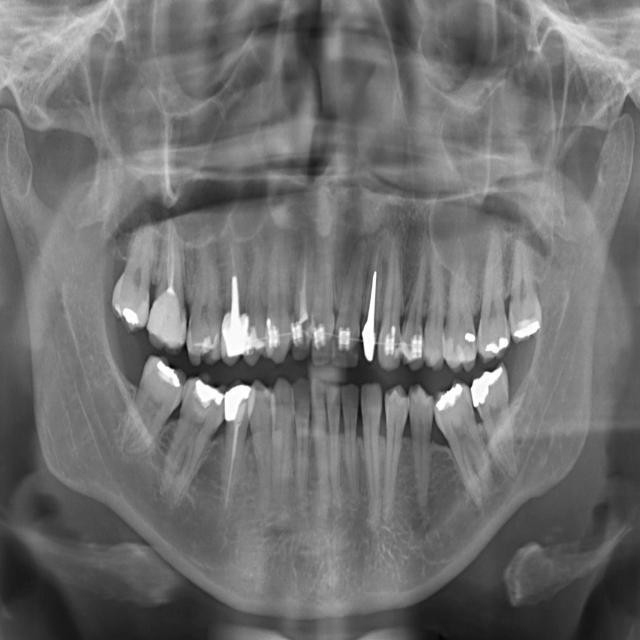3M ESPE Implant: (107, 225, 169, 329)
AGS Medikal Implant: (431, 382, 512, 502)
Amalgam filling: (146, 227, 195, 345)
Anthogyr Implant: (413, 382, 433, 521)
Bicon Implant: (369, 394, 410, 529)
BioHorizons Implant: (360, 382, 385, 521)
BioLife Implant: (342, 380, 360, 518)
Biomet 3i Implant: (325, 389, 341, 511)
Blue Sky Bio Implant: (310, 376, 331, 515)
Camlog Implant: (292, 382, 315, 501)
Caries: (362, 230, 385, 348)
Composite filling: (273, 382, 295, 489)
Cowellmedi Implant: (246, 391, 274, 493)
Crown: (204, 379, 254, 510)
DENTSPLY Implant: (188, 244, 220, 348)
Dentis Implant: (185, 453, 185, 454)
Dentium Implant: (110, 358, 188, 461)
Euroteknika Implant: (216, 223, 248, 356)
Filling: (243, 244, 267, 365)
Frontier Implant: (262, 230, 292, 362)
Hiossen Implant: (377, 236, 406, 361)
Implant: (310, 225, 340, 345)
Implant Direct: (290, 232, 315, 345)
Keystone Dental Implant: (332, 245, 370, 356)
MIS Implant: (400, 236, 429, 358)
Mandible: (425, 242, 450, 359)
Maxilla: (446, 249, 479, 360)
Megagen Implant: (473, 224, 511, 356)
Neodent Implant: (496, 239, 546, 336)
Neoss Implant: (471, 366, 525, 476)
